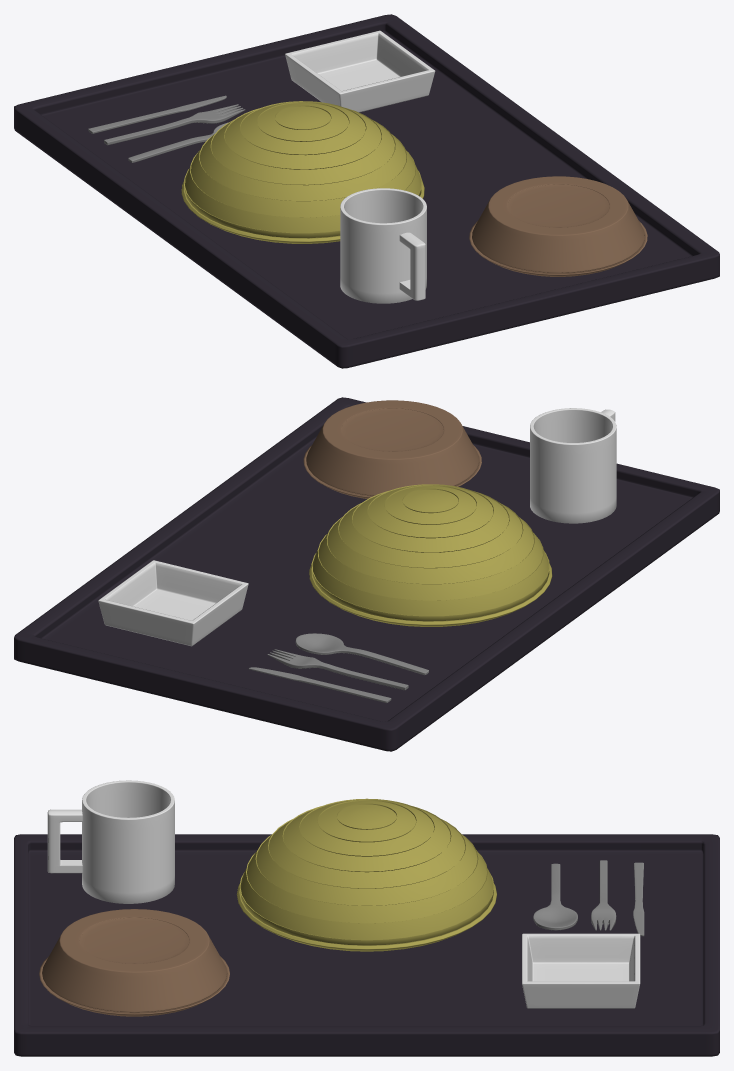
Rendered from Food-Tray.fbx.
3 renders of one model, top to bottom at view 1: azimuth 30°, elevation 25°; view 2: azimuth 150°, elevation 25°; view 3: azimuth 270°, elevation 25°, orthographic. The views are drawn at different scales.
Visible parts, largest first — view 1: Food_Tray, Top_cover, pCylinder23, pCylinder22, pCube23, Handle3, Knife, Bottom_Main_plate, pCylinder24, pCube27, pCube24; view 2: Food_Tray, Top_cover, pCylinder23, pCylinder22, pCube23, Bottom_Main_plate, pCube24, Knife, pCube27; view 3: Food_Tray, Top_cover, pCylinder23, pCylinder22, pCube23, Bottom_Main_plate, Handle3, pCube24, pCylinder24, Knife, pCube27.
Boxes of the visible parts, x1,y1,x2,y2 form: Food_Tray: [14, 14, 719, 368]; Top_cover: [184, 101, 421, 238]; pCylinder23: [472, 176, 644, 272]; pCylinder22: [340, 188, 426, 303]; pCube23: [285, 30, 435, 112]; Handle3: [399, 232, 425, 300]; Knife: [104, 104, 245, 145]; Bottom_Main_plate: [181, 180, 424, 243]; pCylinder24: [469, 221, 647, 276]; pCube27: [88, 95, 226, 133]; pCube24: [128, 122, 228, 162]; Food_Tray: [14, 397, 719, 751]; Top_cover: [311, 484, 549, 621]; pCylinder23: [306, 400, 478, 495]; pCylinder22: [530, 408, 616, 523]; pCube23: [98, 560, 248, 646]; Bottom_Main_plate: [309, 563, 552, 626]; pCube24: [295, 633, 428, 675]; Knife: [267, 649, 408, 690]; pCube27: [248, 667, 391, 703]; Food_Tray: [14, 834, 719, 1056]; Top_cover: [239, 798, 494, 945]; pCylinder23: [42, 909, 226, 1012]; pCylinder22: [82, 780, 174, 903]; pCube23: [522, 933, 640, 1008]; Bottom_Main_plate: [237, 884, 496, 951]; Handle3: [47, 809, 82, 873]; pCube24: [533, 863, 577, 930]; pCylinder24: [39, 956, 229, 1016]; Knife: [591, 860, 616, 930]; pCube27: [633, 862, 644, 936].
Bounding box in the file's own units: 4.08 × 1.06 × 6.11.
